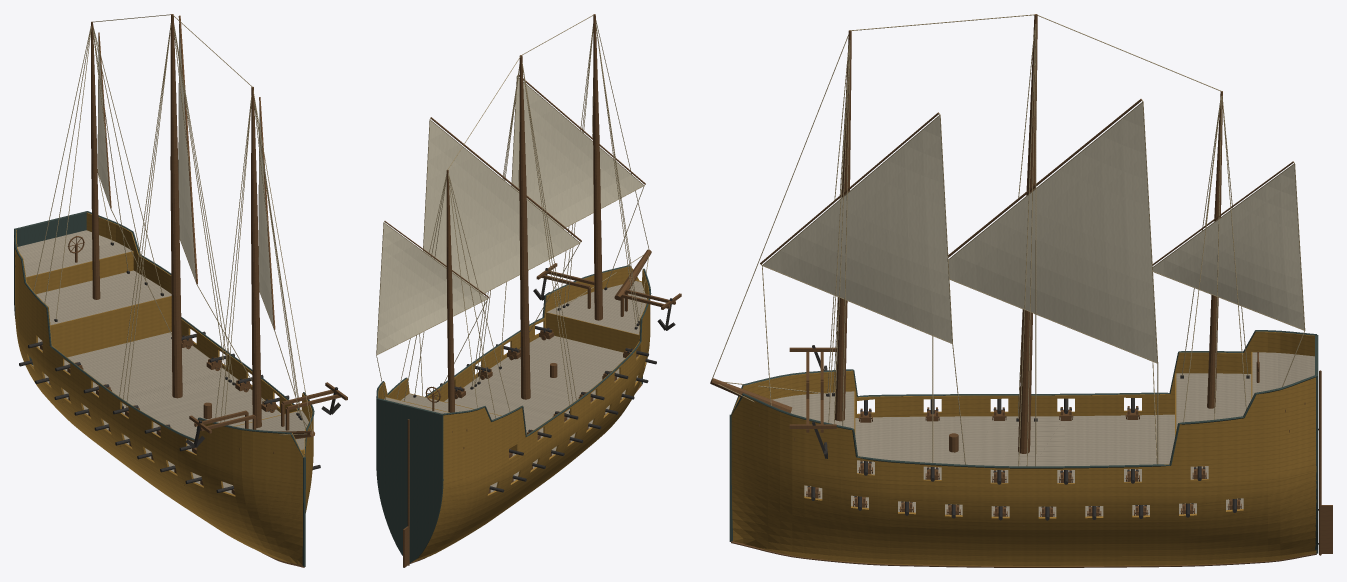
3 renders of one model, left to right at view 1: azimuth 30°, elevation 25°; view 2: azimuth 150°, elevation 25°; view 3: azimuth 270°, elevation 25°, orthographic. The views are drawn at different scales.
Visible parts, largest first — view 1: lod1_hull_shell_starboard, lod1_main_deck, lod1_castle_bulkhead_1_1, lod1_hull_shell_port, lod1_castle_deck_1, lod1_main, lod1_castle_deck_0, lod1_fore, lod1_castle_bulkhead_0_1, lod1_main_lateen_00, lod1_mizzen, lod1_stern_closure (+16 smaller); view 2: lod1_hull_shell_starboard, lod1_main_lateen_00, lod1_fore_lateen_00, lod1_stern_closure, lod1_main_deck, lod1_mizzen_lateen_00, lod1_hull_shell_port, lod1_main, lod1_castle_deck_2, lod1_fore, lod1_castle_bulkhead_2_minus_1, lod1_mizzen (+9 smaller); view 3: lod1_hull_shell_port, lod1_main_lateen_00, lod1_fore_lateen_00, lod1_main_deck, lod1_mizzen_lateen_00, lod1_hull_shell_starboard, lod1_castle_deck_1, lod1_main, lod1_fore, lod1_castle_deck_0, lod1_gunwale_port, lod1_mizzen (+5 smaller).
Boxes of the visible parts, bbox=[...] form: lod1_hull_shell_starboard: bbox=[15, 230, 303, 565]; lod1_main_deck: bbox=[38, 332, 280, 452]; lod1_castle_bulkhead_1_1: bbox=[50, 296, 171, 357]; lod1_hull_shell_port: bbox=[86, 212, 313, 512]; lod1_castle_deck_1: bbox=[36, 270, 171, 325]; lod1_main: bbox=[170, 14, 182, 398]; lod1_castle_deck_0: bbox=[17, 230, 132, 277]; lod1_fore: bbox=[251, 87, 261, 427]; lod1_castle_bulkhead_0_1: bbox=[26, 251, 133, 294]; lod1_main_lateen_00: bbox=[178, 32, 195, 280]; lod1_mizzen: bbox=[91, 21, 100, 299]; lod1_stern_closure: bbox=[14, 211, 86, 364]; lod1_hull_shell_starboard: bbox=[412, 269, 650, 561]; lod1_main_lateen_00: bbox=[423, 120, 579, 293]; lod1_fore_lateen_00: bbox=[512, 77, 643, 228]; lod1_stern_closure: bbox=[376, 398, 443, 562]; lod1_main_deck: bbox=[444, 335, 637, 456]; lod1_mizzen_lateen_00: bbox=[377, 223, 486, 354]; lod1_hull_shell_port: bbox=[378, 266, 639, 401]; lod1_main: bbox=[519, 55, 530, 399]; lod1_castle_deck_2: bbox=[547, 281, 647, 334]; lod1_fore: bbox=[593, 14, 602, 320]; lod1_castle_bulkhead_2_minus_1: bbox=[546, 312, 639, 355]; lod1_mizzen: bbox=[446, 169, 454, 412]; lod1_hull_shell_port: bbox=[731, 377, 1316, 566]; lod1_main_lateen_00: bbox=[948, 103, 1157, 362]; lod1_fore_lateen_00: bbox=[763, 116, 952, 342]; lod1_main_deck: bbox=[855, 414, 1208, 482]; lod1_mizzen_lateen_00: bbox=[1153, 164, 1304, 329]; lod1_hull_shell_starboard: bbox=[731, 331, 1314, 417]; lod1_castle_deck_1: bbox=[1176, 373, 1251, 430]; lod1_main: bbox=[1018, 14, 1037, 453]; lod1_fore: bbox=[835, 30, 851, 421]; lod1_castle_deck_0: bbox=[1252, 352, 1314, 397]; lod1_gunwale_port: bbox=[731, 375, 1317, 468]; lod1_mizzen: bbox=[1207, 91, 1222, 408].
Bounding box in the file's own units: 11.58 × 34.22 × 34.88.
Materials: 7 (7 with a texture image).
